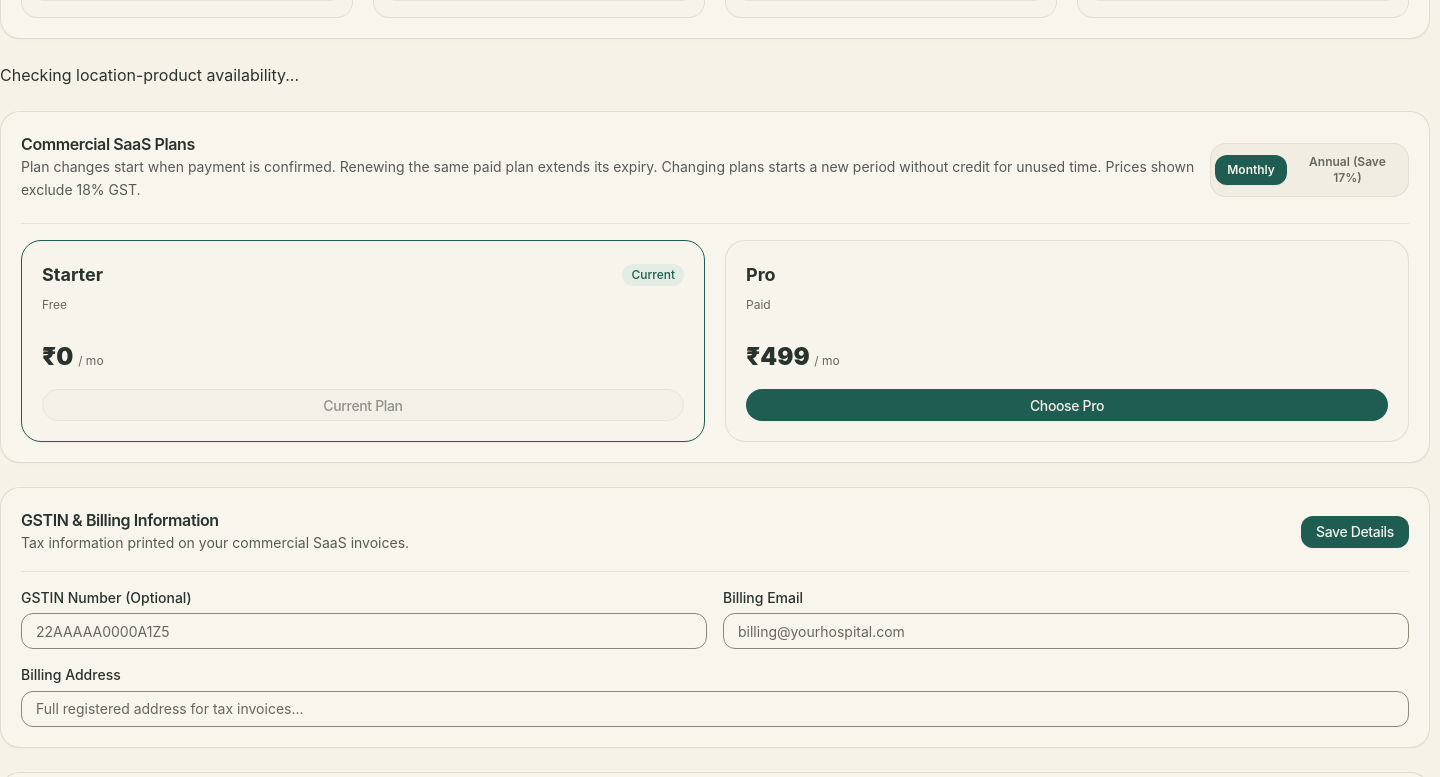
Test: SaaS Checkout UI › opens one order for rapid clicks and keeps activation pending until the backend confirms
(page scrolled)
Click the button "Choose Pro" at coordinates (1067, 405), box [746,389,1388,421]
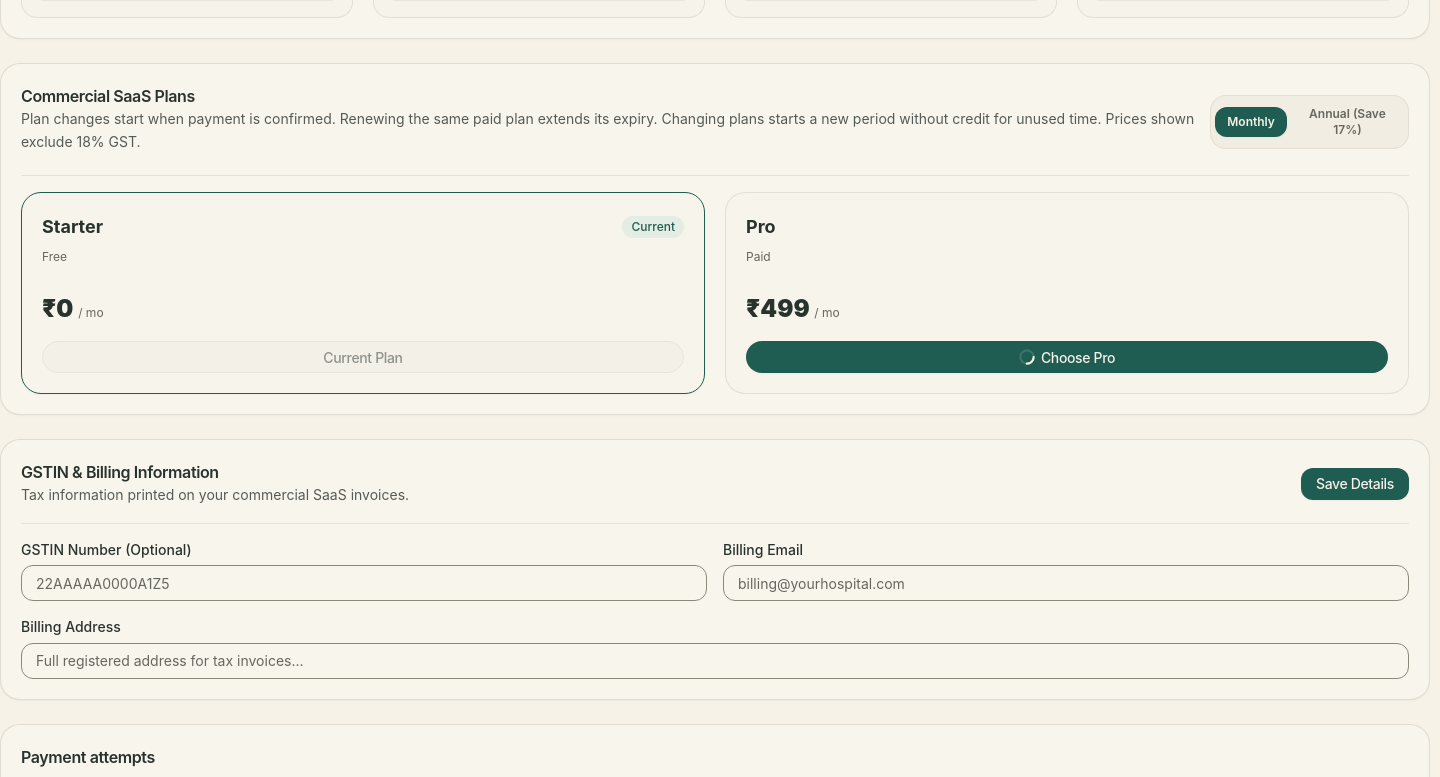
Click the button "Choose Pro" at coordinates (1067, 357), box [746,341,1388,373]
(page scrolled)
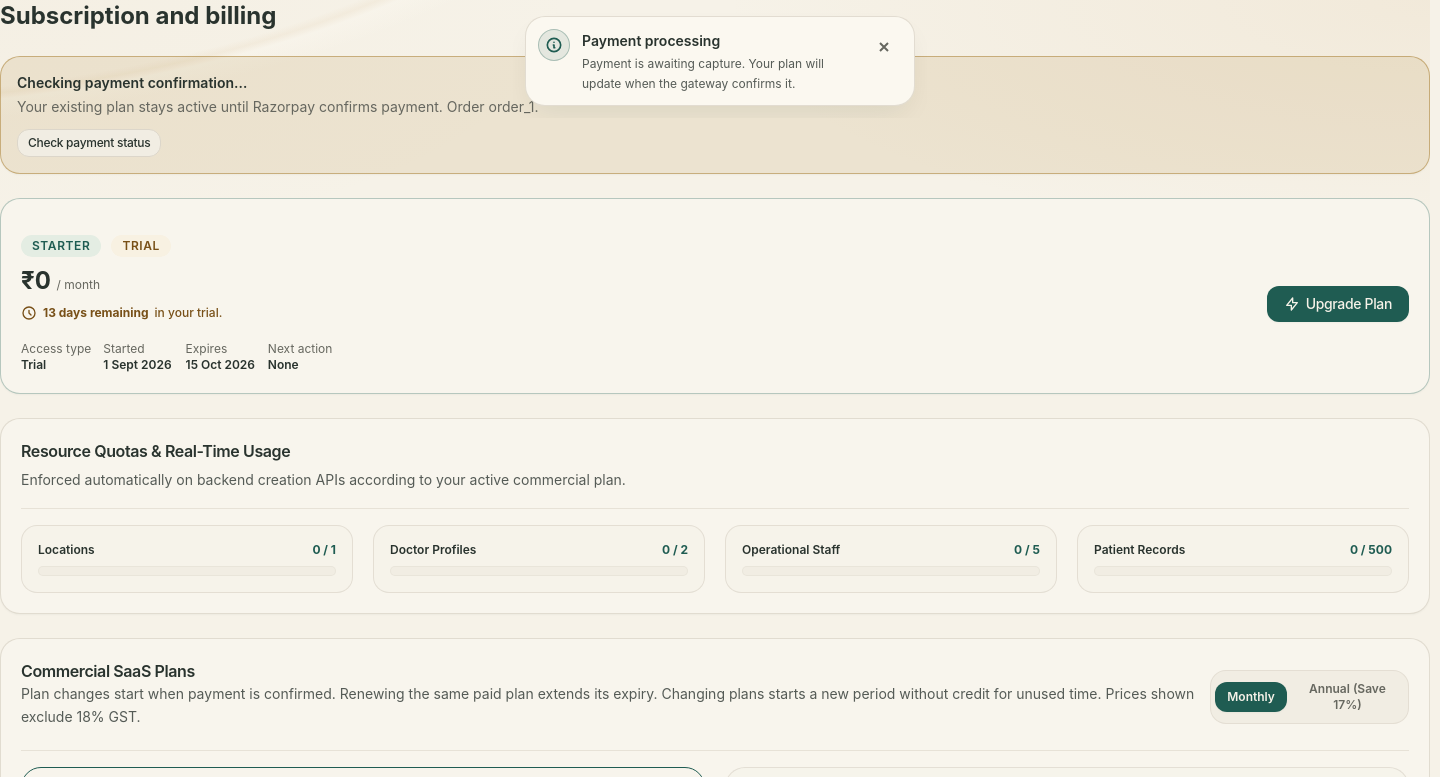
Expected: the text "Checking payment confirmation…" is shown, [17,74,248,91]
